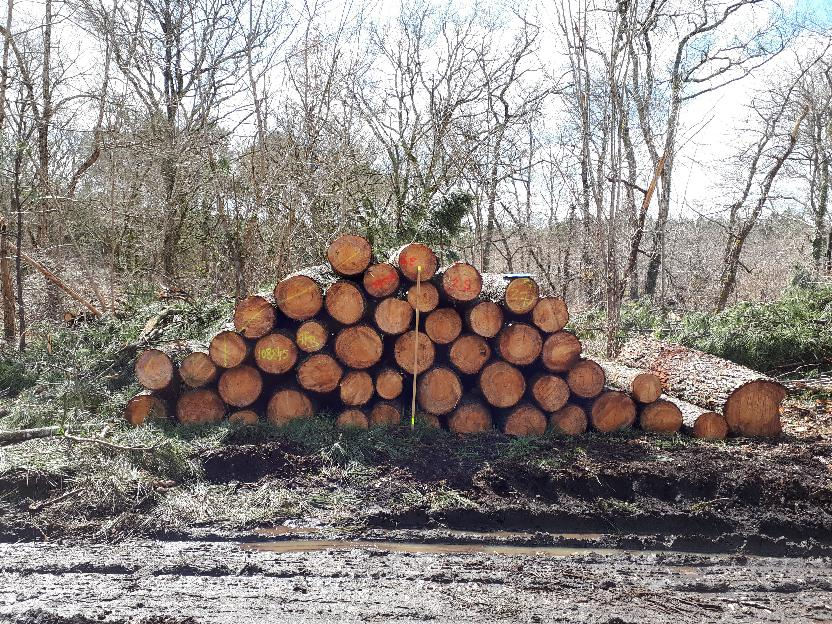etalon: (409, 261, 421, 430)
object: (724, 380, 788, 436), (479, 359, 527, 406), (274, 274, 322, 318), (250, 330, 298, 374), (393, 327, 435, 375), (421, 368, 463, 416), (498, 319, 540, 366), (174, 388, 224, 426), (219, 364, 264, 406), (540, 331, 582, 375), (326, 236, 372, 276), (337, 326, 383, 366), (326, 281, 366, 325), (297, 353, 341, 393), (449, 332, 489, 374), (236, 295, 274, 339), (590, 392, 634, 430), (266, 389, 312, 425), (206, 330, 247, 370), (566, 359, 606, 399), (444, 262, 482, 302), (134, 350, 172, 390), (450, 402, 494, 436), (504, 404, 548, 438), (424, 306, 462, 344), (179, 350, 217, 388), (397, 242, 437, 278), (640, 400, 682, 434), (503, 276, 540, 314), (533, 296, 570, 334), (338, 368, 374, 406), (532, 374, 566, 414), (364, 262, 400, 298), (548, 404, 588, 436), (376, 298, 408, 336), (470, 300, 502, 338), (124, 396, 166, 424), (406, 280, 438, 314), (298, 319, 326, 353), (376, 368, 404, 402), (694, 414, 728, 442), (630, 374, 663, 401), (335, 406, 369, 432), (370, 404, 401, 426), (228, 407, 258, 425), (416, 413, 440, 428)
pile: (121, 228, 799, 446)
